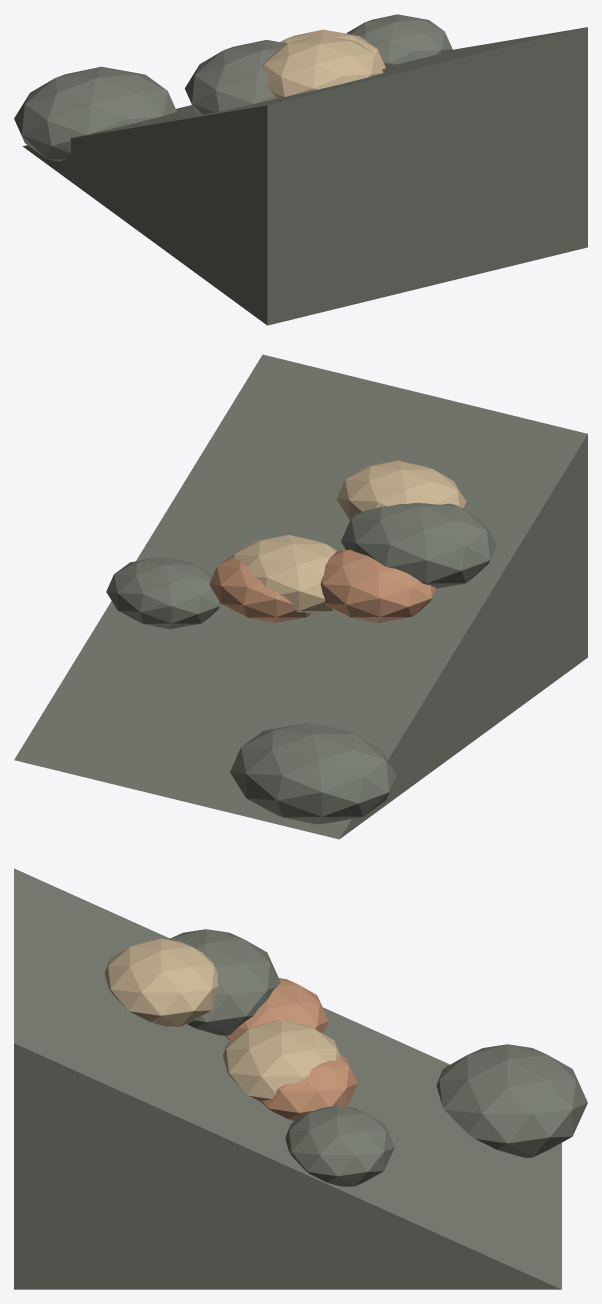
The model's file is debris_ramp_01.glb.
The picture shows the model from 3 angles, top to bottom: view 1: azimuth 30°, elevation 25°; view 2: azimuth 150°, elevation 25°; view 3: azimuth 270°, elevation 25°; orthographic projection. The views are drawn at different scales.
Visible parts, largest first — view 1: core, lump3, lump4, lump0, lump6, lump1; view 2: core, lump3, lump0, lump6, lump2, lump1, lump4, lump5; view 3: core, lump3, lump4, lump6, lump1, lump0, lump5, lump2.
Part boxes in pixels (left/top/right/bottom): core: left=23, top=27, right=587, bottom=325; lump3: left=14, top=66, right=176, bottom=161; lump4: left=263, top=35, right=383, bottom=98; lump0: left=185, top=39, right=287, bottom=114; lump6: left=346, top=14, right=452, bottom=66; lump1: left=280, top=29, right=385, bottom=69; core: left=14, top=354, right=587, bottom=839; lump3: left=230, top=722, right=396, bottom=824; lump0: left=341, top=502, right=496, bottom=588; lump6: left=106, top=556, right=220, bottom=629; lump2: left=320, top=549, right=436, bottom=622; lump1: left=232, top=535, right=337, bottom=614; lump4: left=336, top=460, right=466, bottom=519; lump5: left=209, top=554, right=310, bottom=622; core: left=14, top=868, right=561, bottom=1289; lump3: left=436, top=1044, right=587, bottom=1157; lump4: left=104, top=938, right=218, bottom=1027; lump6: left=285, top=1105, right=394, bottom=1187; lump1: left=223, top=1020, right=341, bottom=1101; lump0: left=168, top=929, right=280, bottom=1035; lump5: left=262, top=1055, right=357, bottom=1120; lump2: left=225, top=978, right=328, bottom=1039.
Bounding box in the file's own units: 1.11 × 0.6825 × 1.41.
